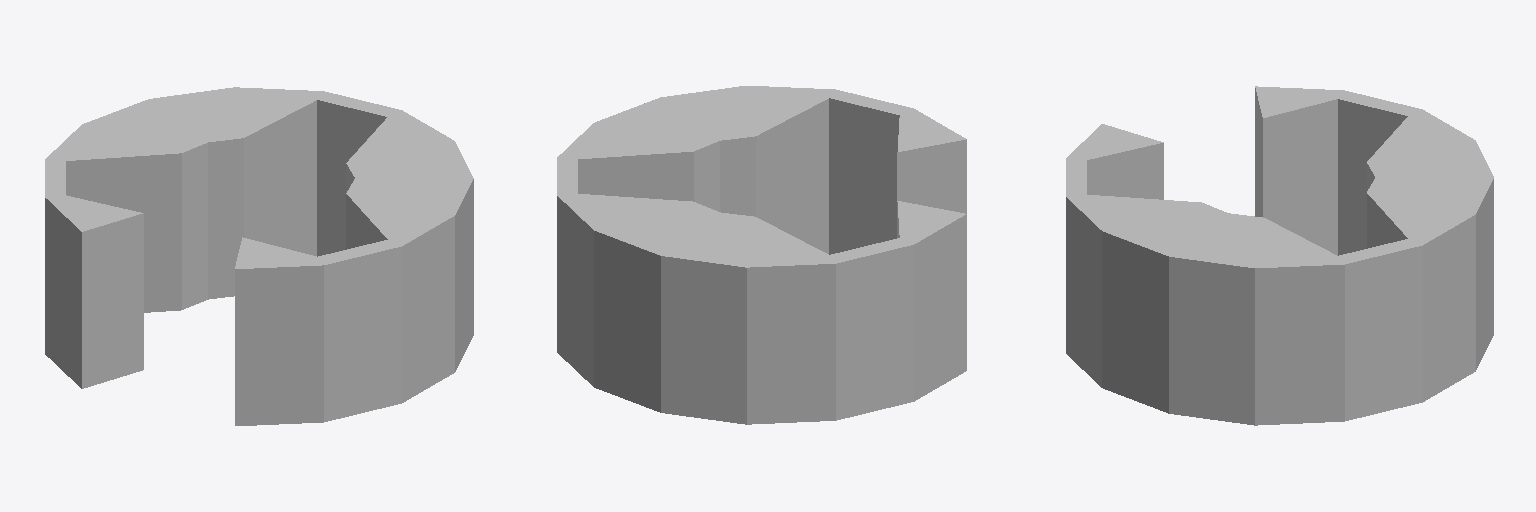
Rendered from bumper_cage.obj.
3 renders of one model, left to right at view 1: azimuth 30°, elevation 25°; view 2: azimuth 150°, elevation 25°; view 3: azimuth 270°, elevation 25°, orthographic.
Parts seen in each view (by area): view 1: Cylinder.003_Cylinder.007; view 2: Cylinder.003_Cylinder.007; view 3: Cylinder.003_Cylinder.007.
Part boxes in pixels (bbox=[...]): Cylinder.003_Cylinder.007: bbox=[45, 87, 473, 425]; Cylinder.003_Cylinder.007: bbox=[557, 86, 966, 424]; Cylinder.003_Cylinder.007: bbox=[1066, 86, 1493, 425].
Bounding box in the file's own units: 1.99 × 0.8 × 1.98.